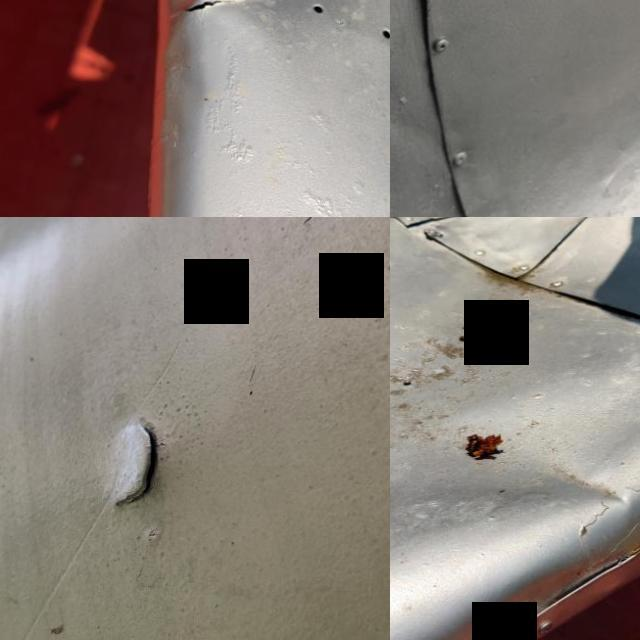Crack: (80, 405, 184, 526), (396, 217, 495, 244), (176, 0, 248, 28)
Dent: (390, 382, 640, 570), (127, 0, 390, 49)
